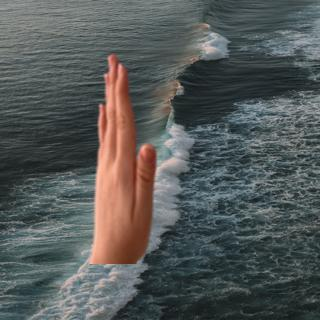Right: (83, 43, 166, 265)
